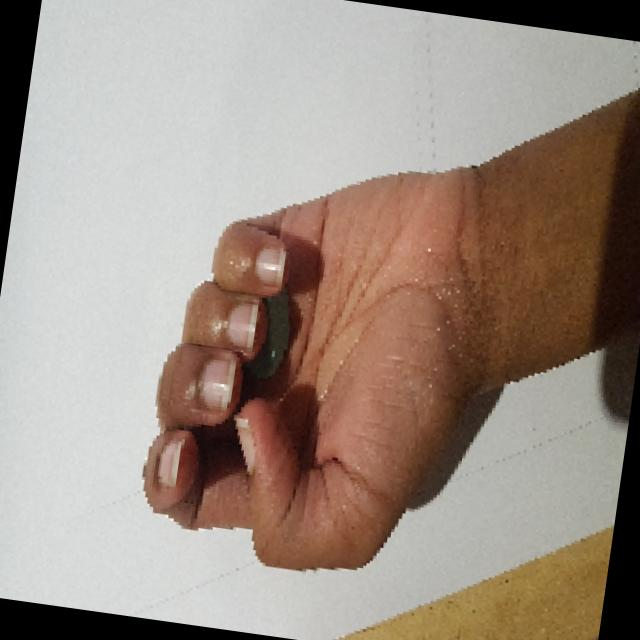Nail: (198, 358, 236, 411), (227, 302, 259, 350), (156, 440, 185, 487), (234, 416, 256, 474), (255, 248, 287, 286)
